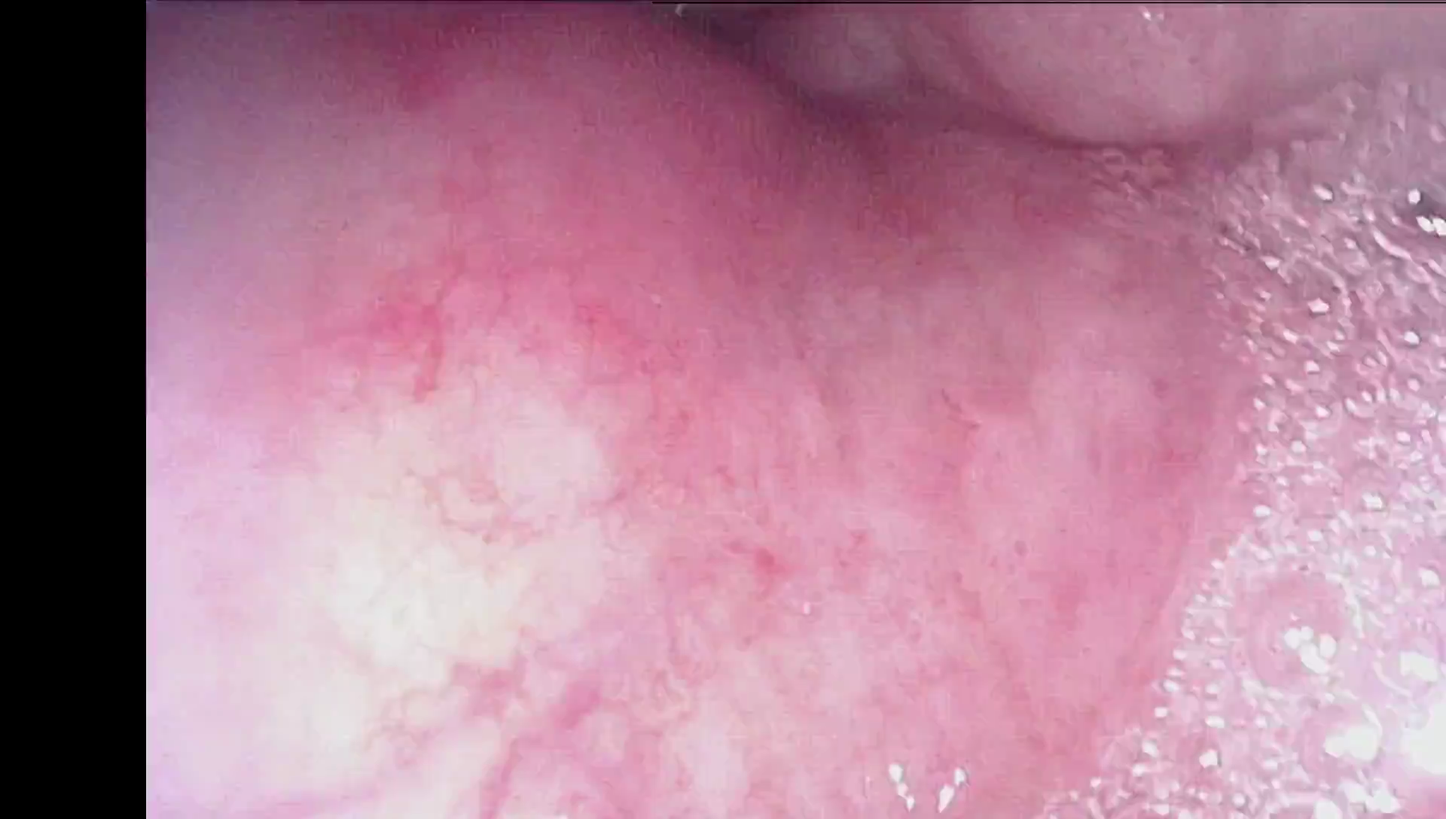close_wall: (173, 249, 1104, 819)
